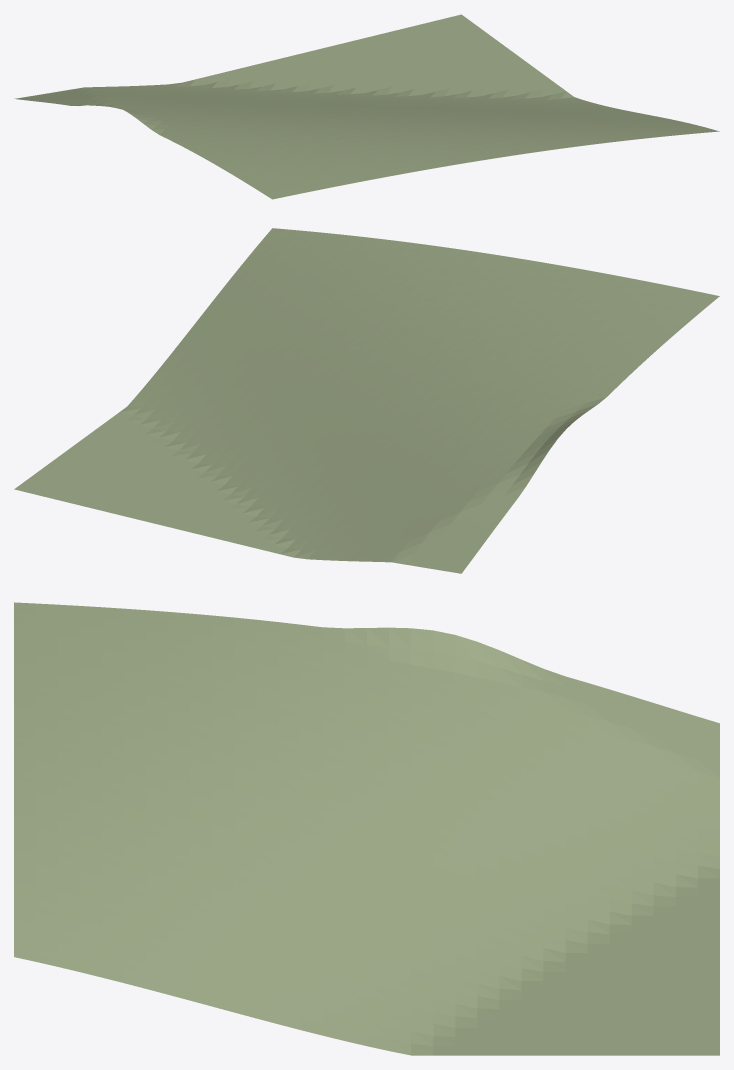
The model's file is expanse-4-6.glb.
3 views of the same model, one above another, from view 1: azimuth 30°, elevation 25°; view 2: azimuth 150°, elevation 25°; view 3: azimuth 270°, elevation 25° (orthographic). The views are drawn at different scales.
Visible parts, largest first — view 1: expanse-4-6; view 2: expanse-4-6; view 3: expanse-4-6.
Boxes of the visible parts, x1,y1,x2,y2 form: expanse-4-6: [14, 14, 719, 199]; expanse-4-6: [14, 228, 719, 573]; expanse-4-6: [14, 602, 719, 1055].
Size of the model in its own units: 256 by 61.91 by 256.
